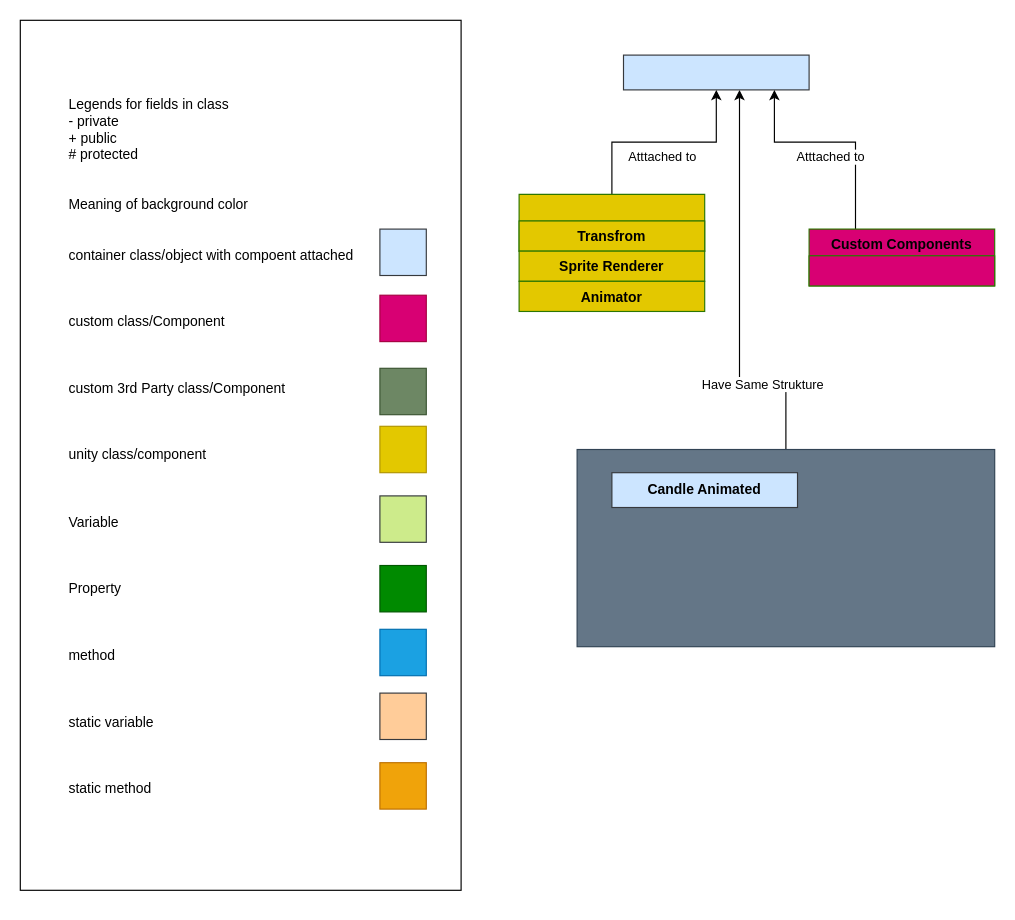
This 1015x920 diagram has some shape labels left out. The box of each missing label's shape, as (x1, y1, x2, y2) in pixels:
Position Renderer Sorter: (808, 255, 995, 286)
Prefab: (622, 54, 809, 90)
Unity Components: (518, 193, 705, 251)
